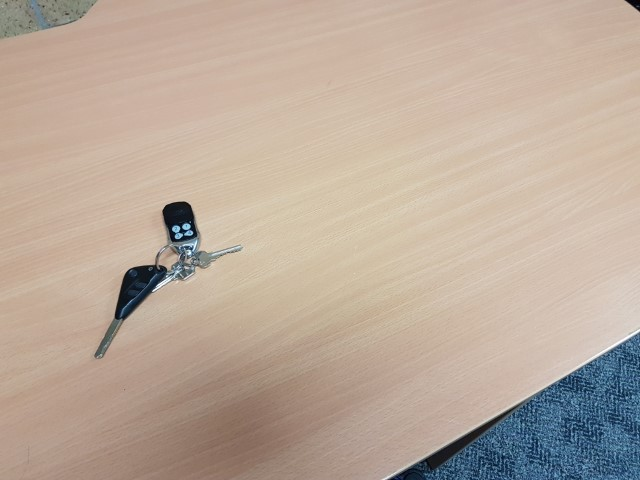key: (92, 263, 168, 360)
